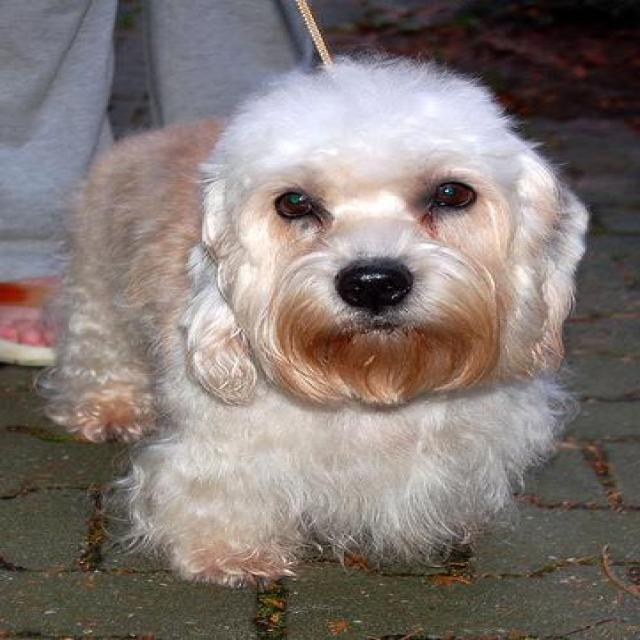dandie_dinmont: (39, 55, 594, 595)
